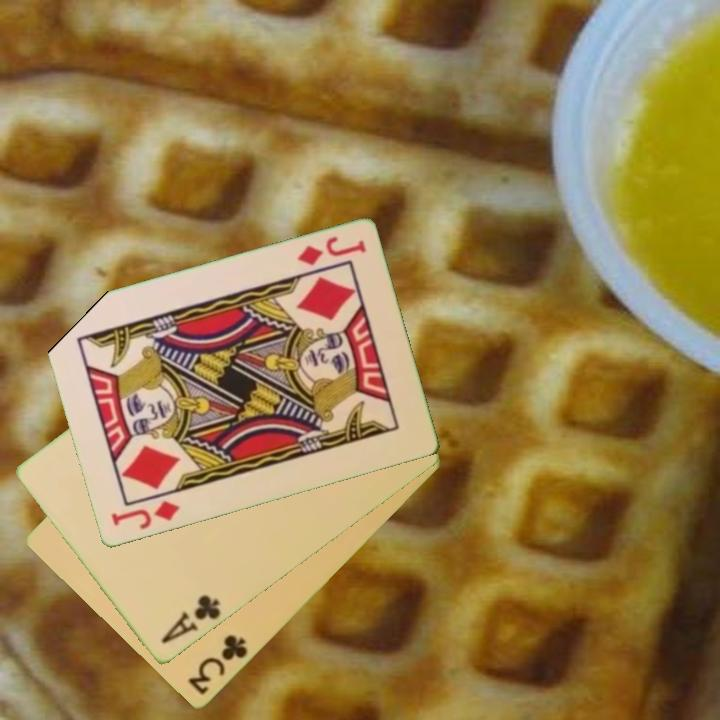3c: (184, 631, 251, 699)
Ac: (157, 591, 224, 647)
Jd: (294, 233, 369, 270), (107, 498, 183, 533)
